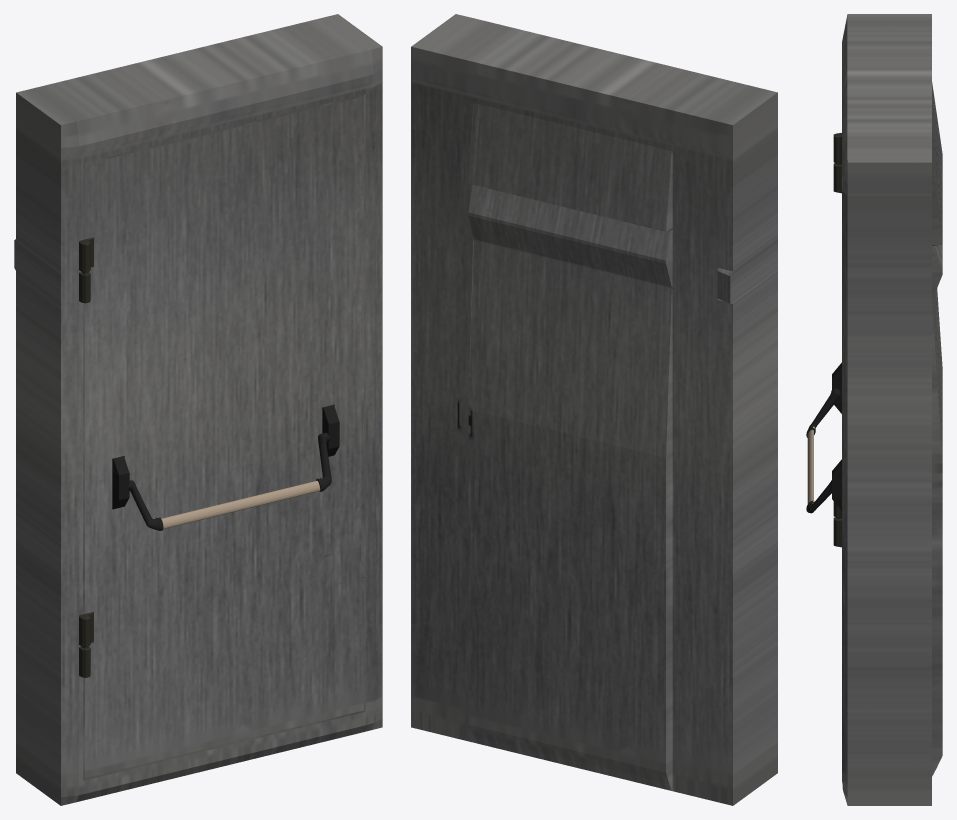
The model's file is Door.fbx.
The picture shows the model from 3 angles, left to right: view 1: azimuth 30°, elevation 25°; view 2: azimuth 150°, elevation 25°; view 3: azimuth 270°, elevation 25°; orthographic projection. The views are drawn at different scales.
Visible parts, largest first — view 1: Export door, Export handle; view 2: Export door; view 3: Export door, Export handle.
Part boxes in pixels (x1,y1,x2,y2): Export door: [14, 14, 382, 805]; Export handle: [127, 432, 331, 530]; Export door: [411, 14, 777, 805]; Export door: [832, 14, 942, 805]; Export handle: [806, 388, 840, 513].
Bounding box in the file's own units: 116 × 234 × 44.84.
